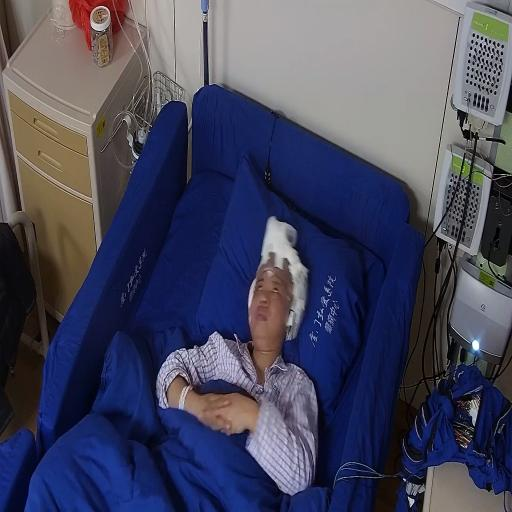Seizure: (249, 233, 306, 352)
